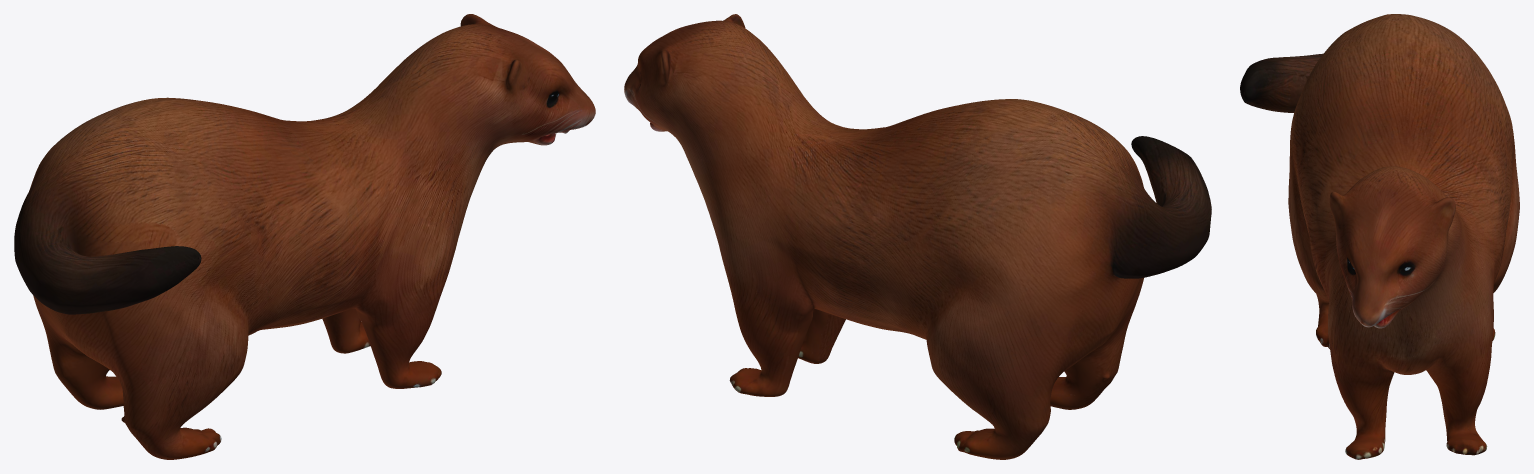
File: norka.glb
3 renders of one model, left to right at view 1: azimuth 30°, elevation 25°; view 2: azimuth 150°, elevation 25°; view 3: azimuth 270°, elevation 25°, orthographic. The views are drawn at different scales.
Parts seen in each view (by area): view 1: tripo_node_520a1eed-ce5a-4d65-96f4-ae618a22f5f1; view 2: tripo_node_520a1eed-ce5a-4d65-96f4-ae618a22f5f1; view 3: tripo_node_520a1eed-ce5a-4d65-96f4-ae618a22f5f1.
Part boxes in pixels (<box>): tripo_node_520a1eed-ce5a-4d65-96f4-ae618a22f5f1: <box>14,14,595,459</box>; tripo_node_520a1eed-ce5a-4d65-96f4-ae618a22f5f1: <box>624,14,1211,459</box>; tripo_node_520a1eed-ce5a-4d65-96f4-ae618a22f5f1: <box>1240,14,1519,459</box>.
Bounding box in the file's own units: 0.9448 × 0.5159 × 0.414.
1 material, 1 textured.
